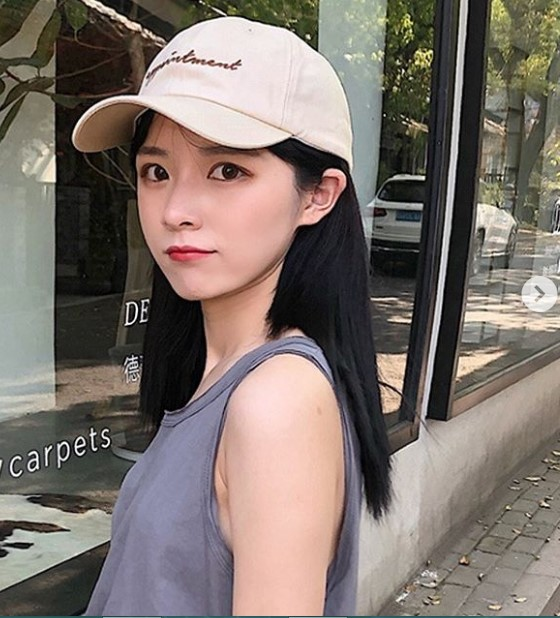face_no_mask: (136, 42, 343, 299)
